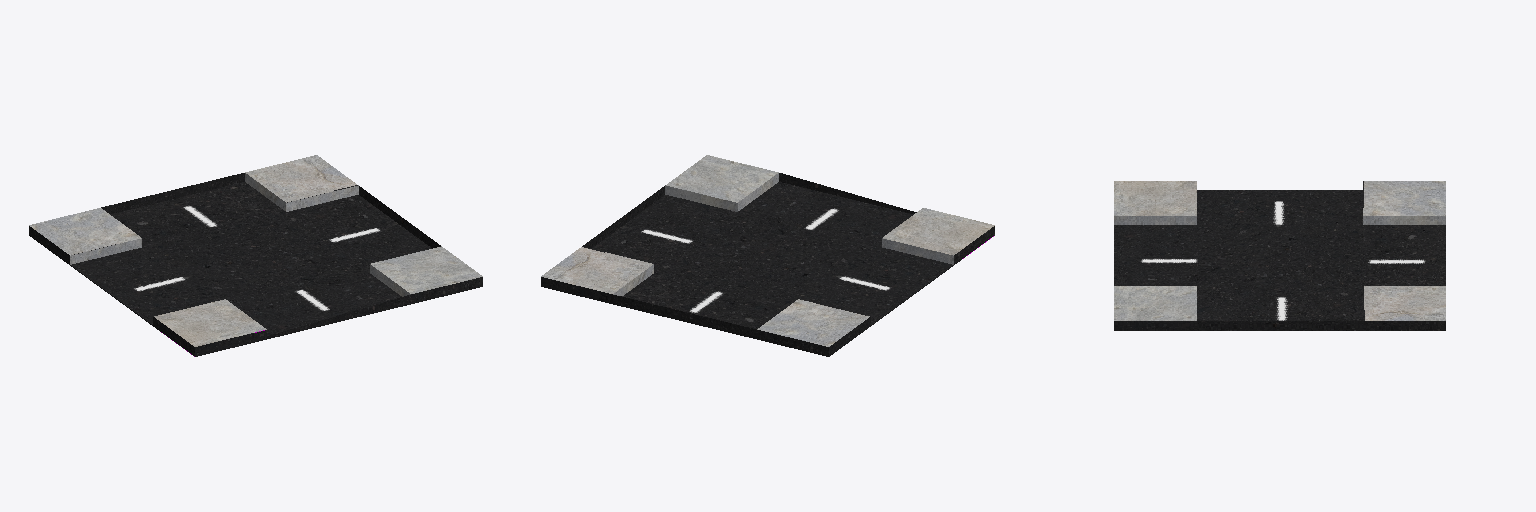
The picture shows the model from 3 angles: view 1: azimuth 30°, elevation 25°; view 2: azimuth 150°, elevation 25°; view 3: azimuth 270°, elevation 25°; orthographic projection.
Visible parts, largest first — view 1: street_x; view 2: street_x; view 3: street_x.
Boxes of the visible parts, x1=… form: street_x: x1=29, y1=155, x2=482, y2=356; street_x: x1=541, y1=155, x2=994, y2=356; street_x: x1=1114, y1=181, x2=1445, y2=330.
Bounding box in the file's own units: 2 × 0.0664 × 2.
1 materials, 1 textured.